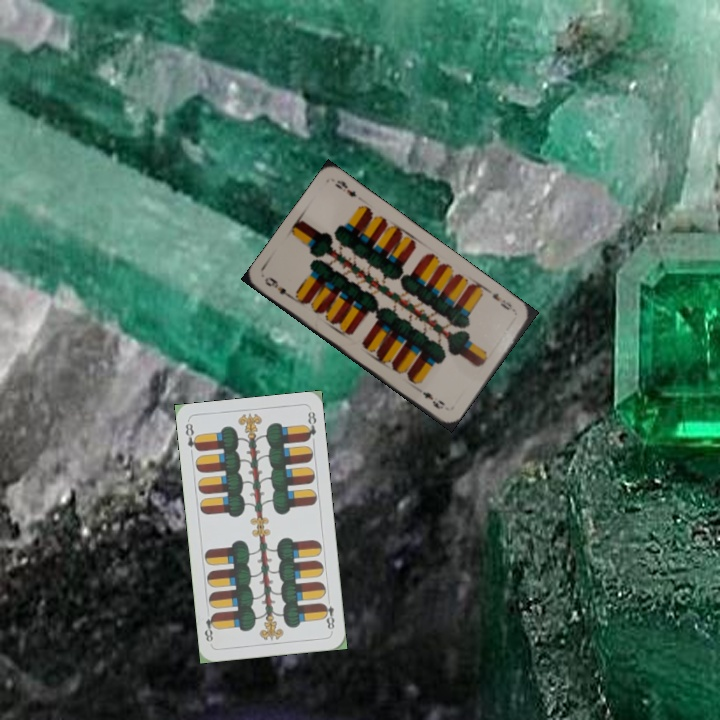E8: (319, 594, 337, 634), (181, 419, 202, 453)
E9: (260, 273, 296, 302), (488, 288, 515, 313)
